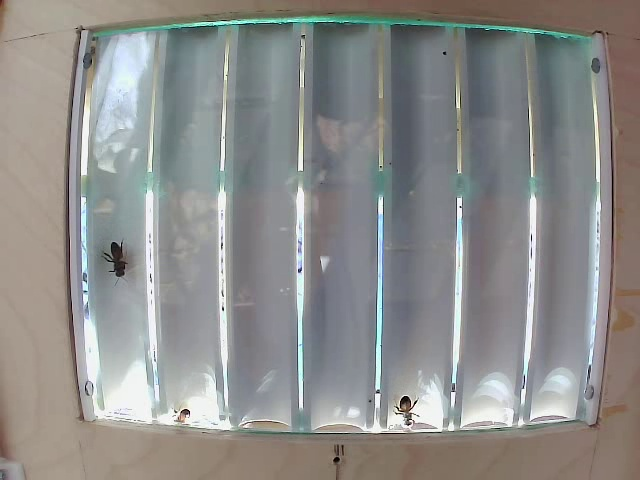bee: (99, 221, 144, 287), (382, 388, 427, 437)
